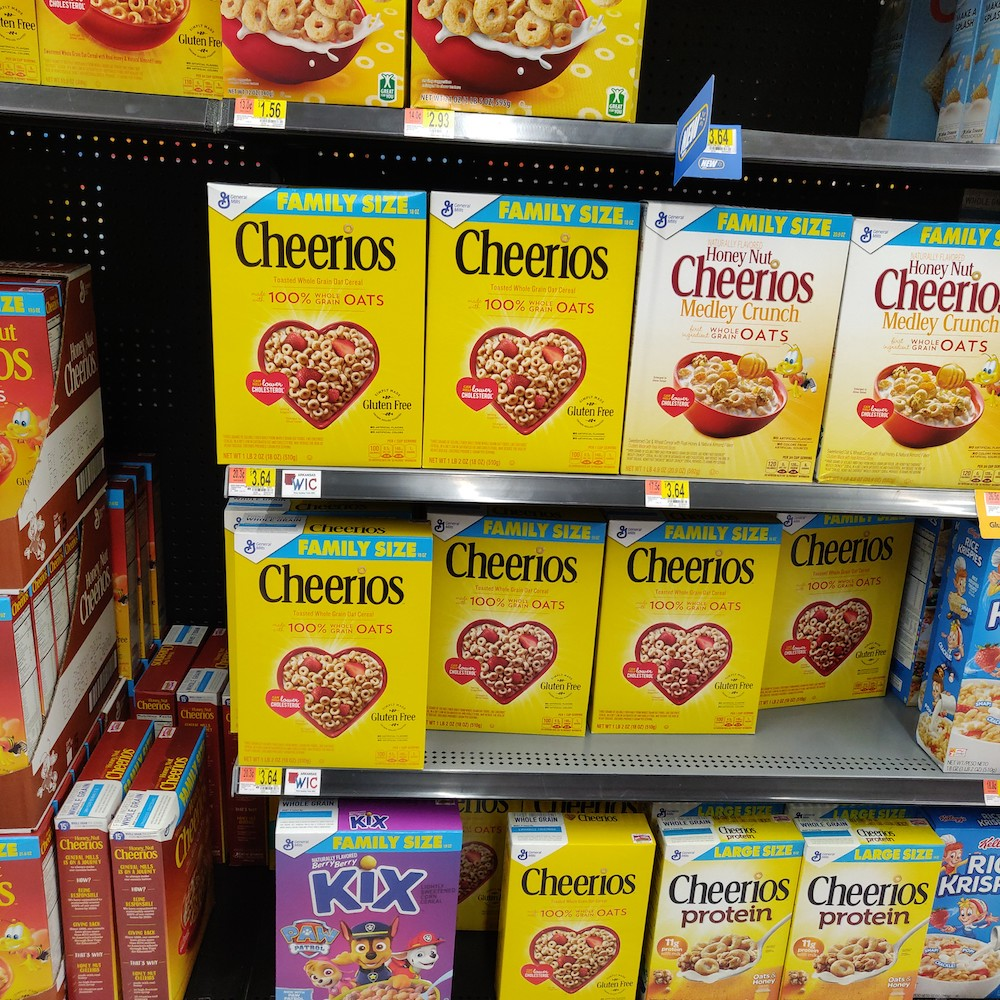Kix Berry -568919964: (280, 835, 458, 1000)
